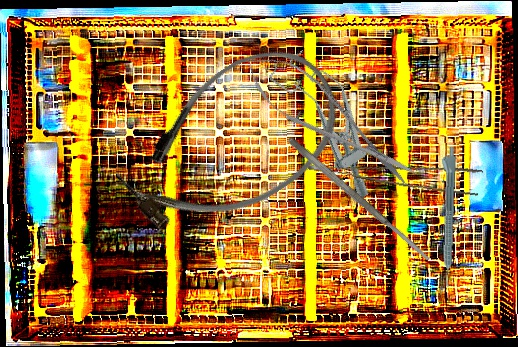Cannula: (99, 25, 363, 261)
Handpiece: (436, 145, 457, 287)
Micro Scissor: (230, 38, 429, 201)
Spatula Surgical: (285, 134, 434, 266)
Speculum: (264, 40, 399, 207)
Tissue Forceps: (307, 135, 484, 205)
